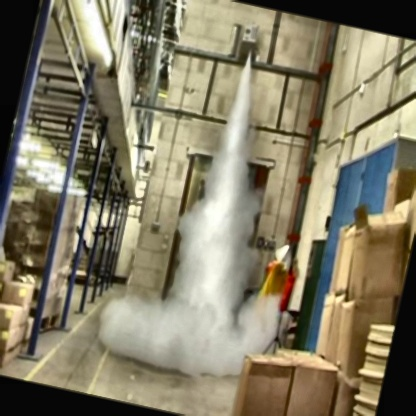smoke: (110, 41, 324, 377)
